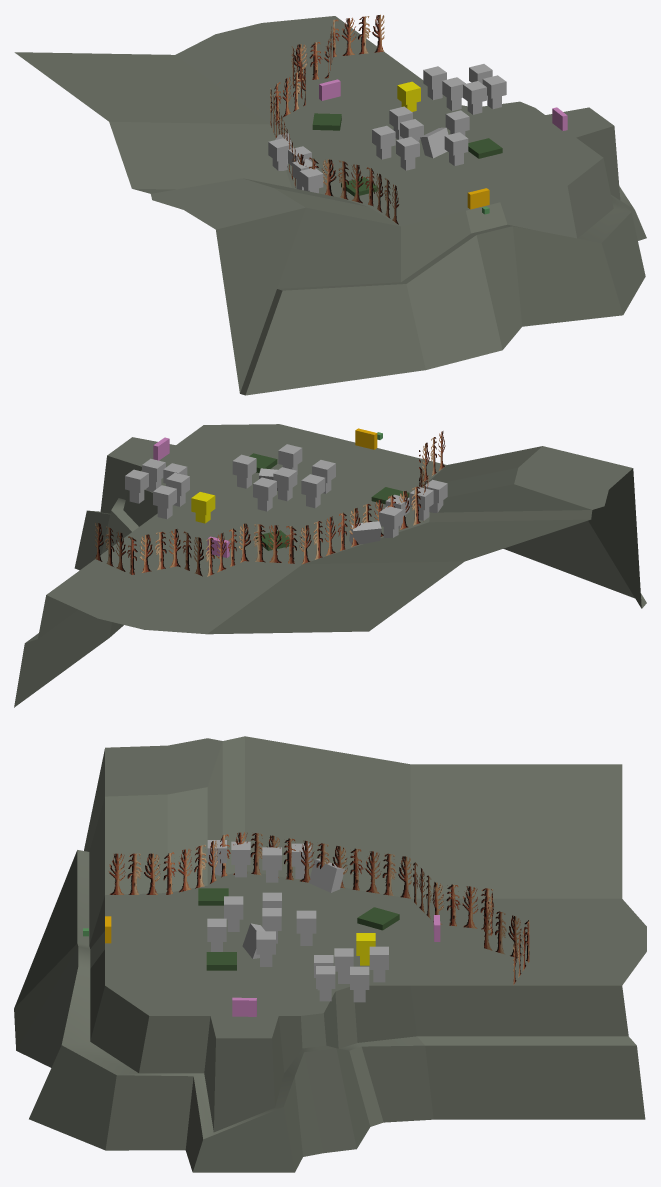
3 views of the same model, one above another, from view 1: azimuth 30°, elevation 25°; view 2: azimuth 150°, elevation 25°; view 3: azimuth 270°, elevation 25° (orthographic). The views are drawn at different scales.
Visible parts, largest first — view 1: Playable_Area1, ArbolesPlanos, pasted__Arbol_Persona_Pequeño82, pasted__Arbol_Persona_Pequeño78, pasted__Arbol_Persona_Pequeño79, pasted__Arbol_Persona_Pequeño88, Engranaje20, pasted__Arbol_Persona_Pequeño91, pasted__Arbol_Persona_Pequeño89, pasted__Arbol_Persona_Pequeño87, pasted__Arbol_Persona_Pequeño86, Gachapon6; view 2: Playable_Area1, ArbolesPlanos, pasted__Arbol_Persona_Pequeño79, pasted__Arbol_Persona_Pequeño81, pasted__Arbol_Persona_Pequeño80, pasted__Arbol_Persona_Pequeño91, pasted__Arbol_Persona_Pequeño90, pasted__Arbol_Persona_Pequeño, Gachapon6, Engranaje21, pasted__Arbol_Persona_Pequeño86, pasted__Arbol_Persona_Pequeño82 (+5 smaller); view 3: Playable_Area1, ArbolesPlanos, Engranaje21, Geiser_de_acide4, pasted__Arbol_Persona_Pequeño80, pasted__Arbol_Persona_Pequeño91, pasted__Arbol_Persona_Pequeño90, pasted__Arbol_Persona_Pequeño81, pasted__Arbol_Persona_Pequeño83, pasted__Arbol_Persona_Pequeño78, pasted__Arbol_Persona_Pequeño89, pasted__Arbol_Persona_Pequeño84.
Part boxes in pixels (left/top/right/bottom): Playable_Area1: left=14, top=16, right=646, bottom=395; ArbolesPlanos: left=270, top=14, right=399, bottom=224; pasted__Arbol_Persona_Pequeño82: left=444, top=132, right=468, bottom=166; pasted__Arbol_Persona_Pequeño78: left=396, top=137, right=419, bottom=170; pasted__Arbol_Persona_Pequeño79: left=372, top=125, right=395, bottom=159; pasted__Arbol_Persona_Pequeño88: left=463, top=81, right=486, bottom=114; Engranaje20: left=420, top=127, right=448, bottom=158; pasted__Arbol_Persona_Pequeño91: left=423, top=66, right=446, bottom=100; pasted__Arbol_Persona_Pequeño89: left=482, top=75, right=506, bottom=109; pasted__Arbol_Persona_Pequeño87: left=442, top=77, right=465, bottom=110; pasted__Arbol_Persona_Pequeño86: left=268, top=138, right=291, bottom=170; Gachapon6: left=397, top=81, right=420, bottom=111; Playable_Area1: left=14, top=424, right=646, bottom=707; ArbolesPlanos: left=95, top=431, right=445, bottom=576; pasted__Arbol_Persona_Pequeño79: left=301, top=474, right=325, bottom=508; pasted__Arbol_Persona_Pequeño81: left=232, top=454, right=256, bottom=488; pasted__Arbol_Persona_Pequeño80: left=253, top=477, right=276, bottom=511; pasted__Arbol_Persona_Pequeño91: left=153, top=485, right=176, bottom=519; pasted__Arbol_Persona_Pequeño90: left=125, top=469, right=148, bottom=503; pasted__Arbol_Persona_Pequeño: left=273, top=467, right=297, bottom=501; Gachapon6: left=191, top=492, right=215, bottom=523; Engranaje21: left=349, top=521, right=381, bottom=544; pasted__Arbol_Persona_Pequeño86: left=379, top=506, right=402, bottom=537; pasted__Arbol_Persona_Pequeño82: left=278, top=444, right=302, bottom=474; Playable_Area1: left=14, top=736, right=646, bottom=1172; ArbolesPlanos: left=108, top=832, right=529, bottom=984; Engranaje21: left=309, top=859, right=344, bottom=892; Geiser_de_acide4: left=357, top=907, right=399, bottom=930; pasted__Arbol_Persona_Pequeño80: left=296, top=910, right=316, bottom=945; pasted__Arbol_Persona_Pequeño91: left=369, top=946, right=388, bottom=982; pasted__Arbol_Persona_Pequeño90: left=350, top=966, right=369, bottom=1002; pasted__Arbol_Persona_Pequeño81: left=256, top=931, right=275, bottom=966; pasted__Arbol_Persona_Pequeño83: left=262, top=847, right=281, bottom=882; pasted__Arbol_Persona_Pequeño78: left=224, top=896, right=243, bottom=931; pasted__Arbol_Persona_Pequeño89: left=316, top=966, right=335, bottom=1001; pasted__Arbol_Persona_Pequeño84: left=231, top=841, right=250, bottom=877.
Size of the model in its own units: 103 by 31 by 104.
